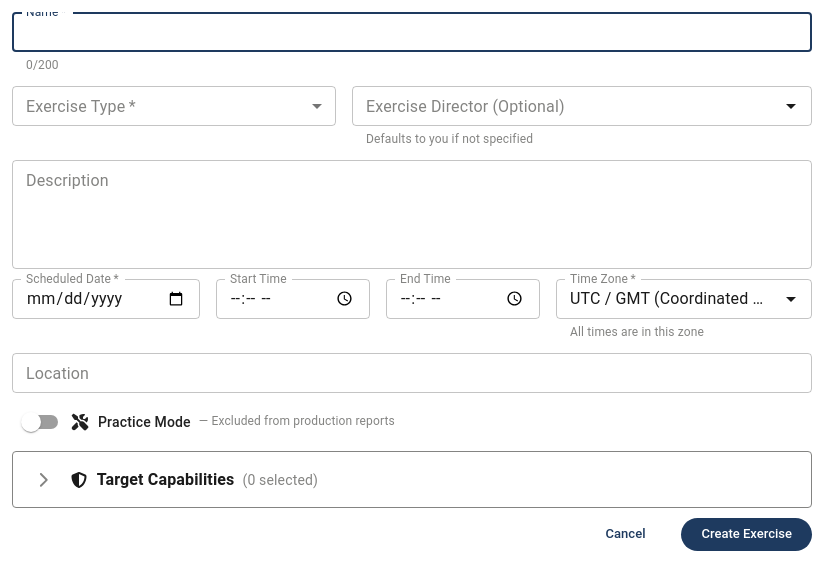
Test: ExerciseForm - Director Selection › Create Mode › allows clearing director selection
The width and height of the screenshot is (830, 568).
// Select director
Click the dropdown labelled "Exercise Director (Optional)" at (566, 106), box [358, 92, 773, 120]
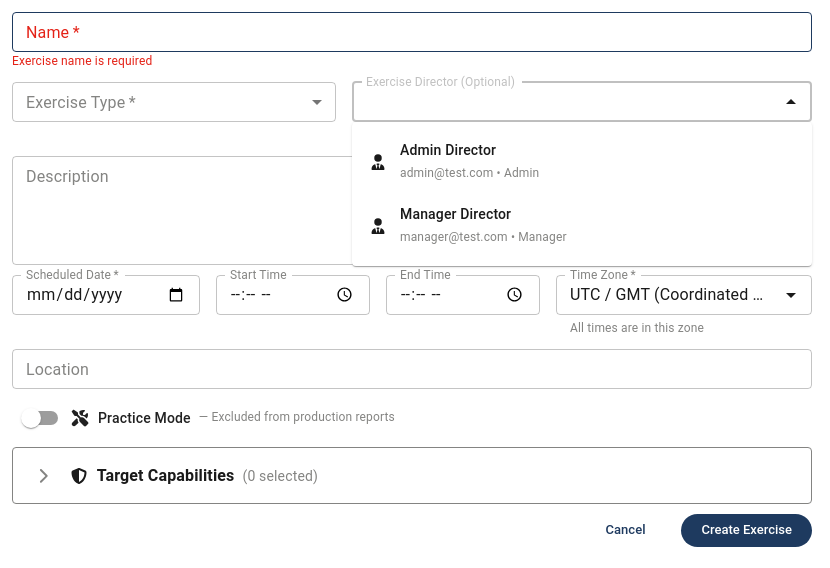
Check: the text "Admin Director" is shown
Click the text "Admin Director" at (448, 150), box [400, 142, 496, 158]
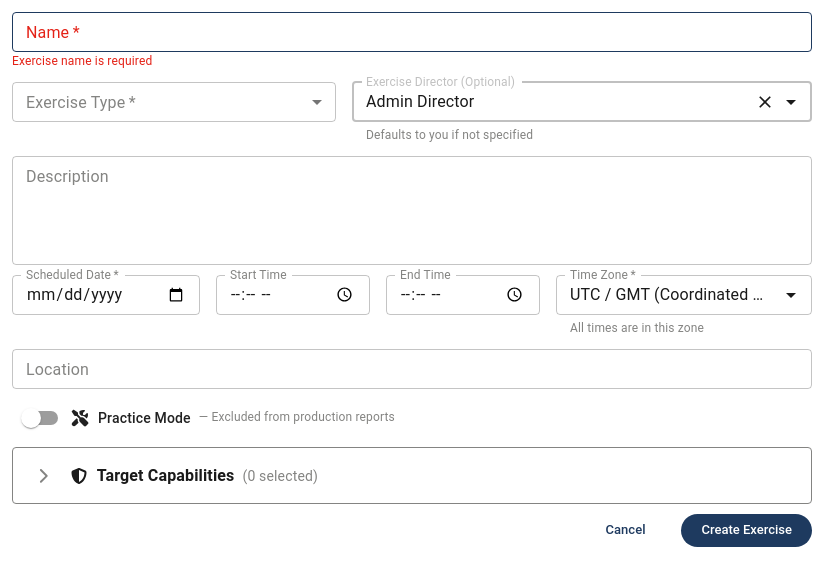
Check: the dropdown labelled "Exercise Director (Optional)" holds "Admin Director", box [358, 88, 747, 116]
// Clear selection
Click the button titled "Clear" at (765, 102), box [751, 88, 779, 116]
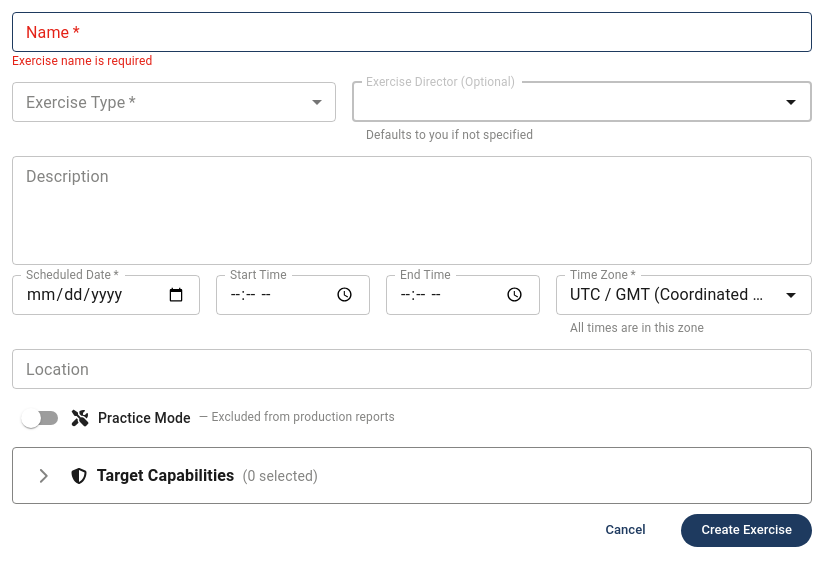
Check: the dropdown labelled "Exercise Director (Optional)" is empty, box [358, 88, 773, 116]
